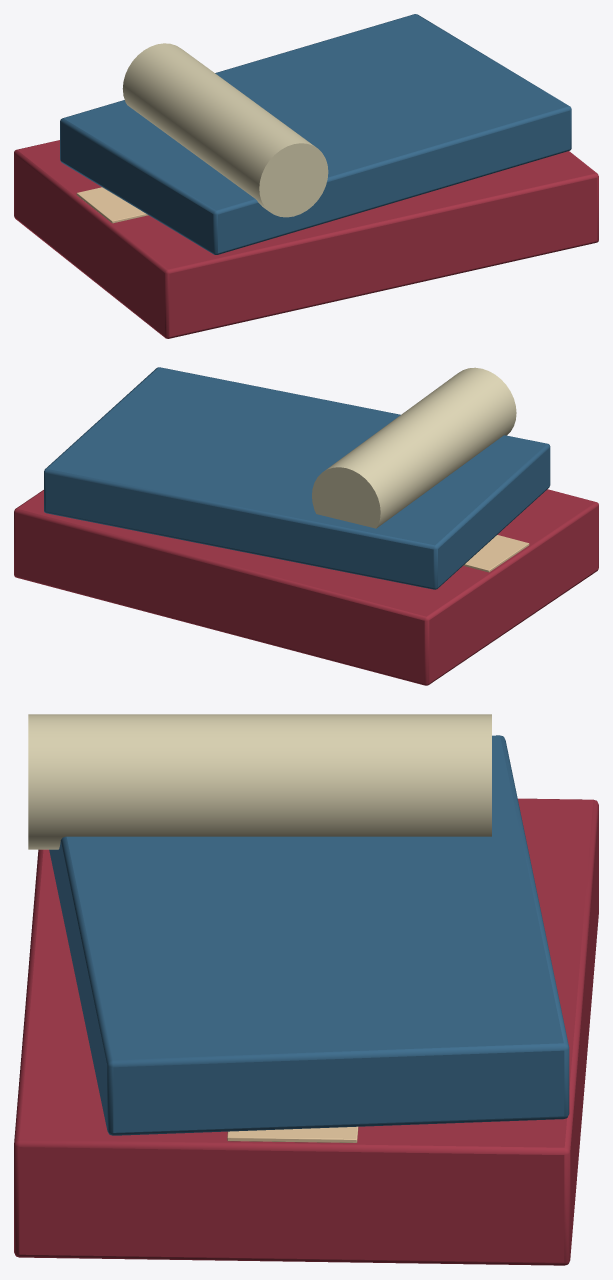
The model's file is ChanMenBong_GapGon.glb.
3 renders of one model, top to bottom at view 1: azimuth 30°, elevation 25°; view 2: azimuth 150°, elevation 25°; view 3: azimuth 270°, elevation 25°, orthographic. The views are drawn at different scales.
Parts seen in each view (by area): view 1: ChanMenBong_GapGon; view 2: ChanMenBong_GapGon; view 3: ChanMenBong_GapGon.
Part boxes in pixels (x1,y1,x2,y2): ChanMenBong_GapGon: [14, 14, 598, 338]; ChanMenBong_GapGon: [14, 367, 598, 685]; ChanMenBong_GapGon: [14, 714, 598, 1265].
Bounding box in the file's own units: 0.92 × 0.3431 × 0.6306.
